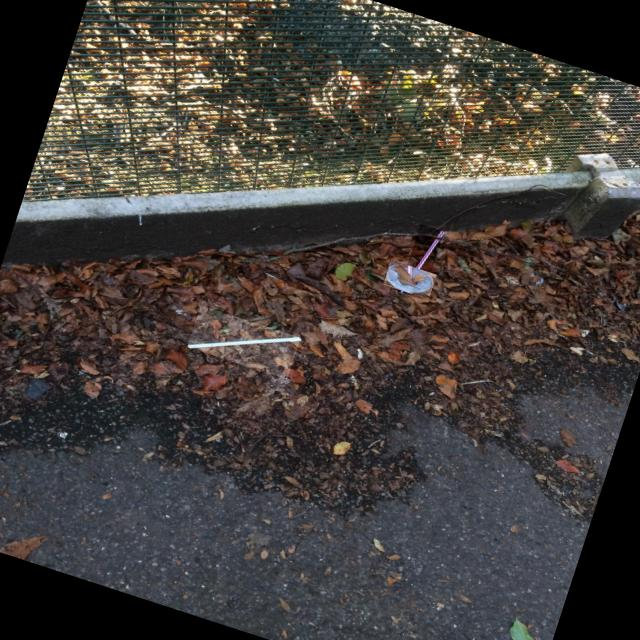Plastic lid: (387, 266, 434, 294)
Plastic straw: (399, 232, 444, 293), (188, 338, 300, 349)
